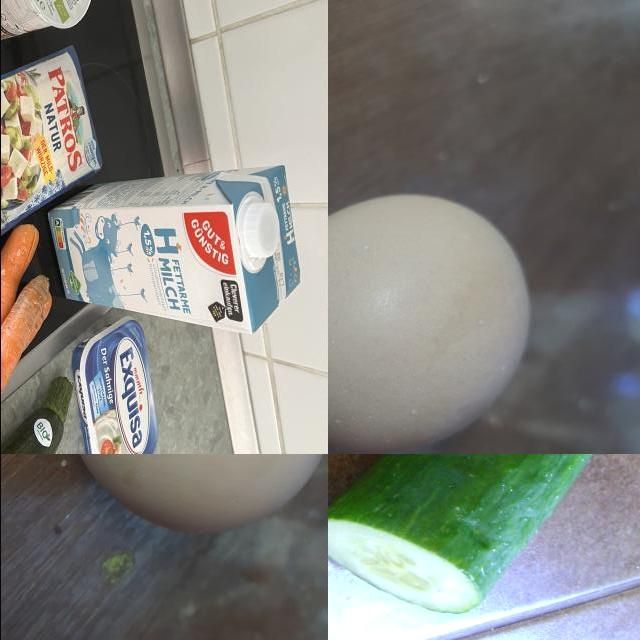carrot: (1, 265, 62, 416), (1, 219, 47, 336)
cucumber: (328, 455, 640, 617)
egg: (328, 192, 539, 455), (58, 455, 328, 536)
